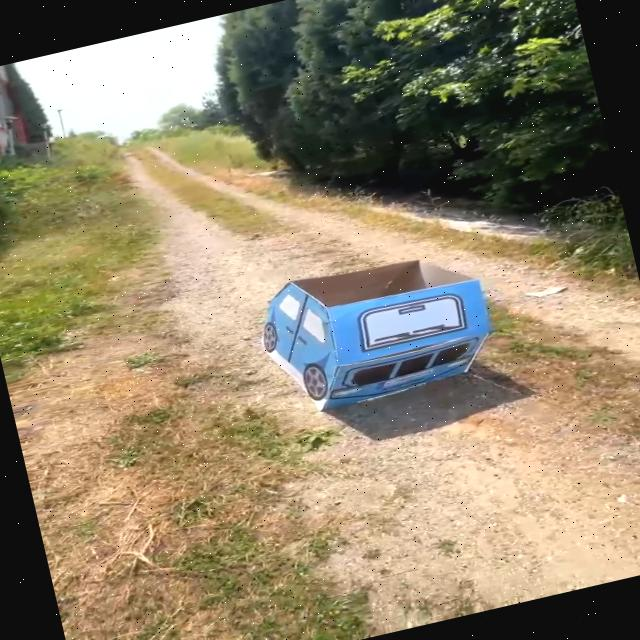blue_car: (218, 226, 524, 448)
